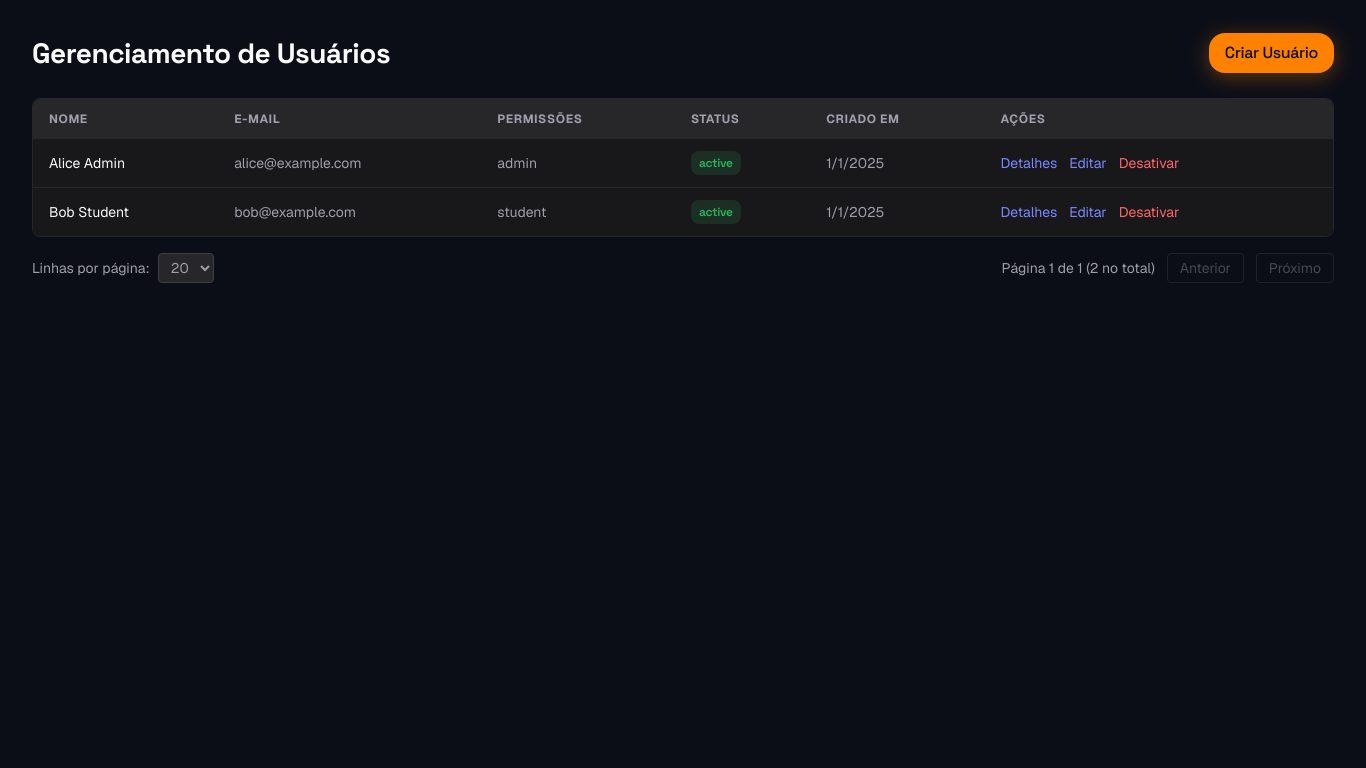
AdminUsersPage — Create User › opens the Create User form when the button is clicked
Check: the text "Alice Admin" is shown, box [33,139,218,188]
What coordinates should you click on to do the following:
click the button "Criar Usuário"
I would click on:
 (1271, 53)
Its box is [1209,33,1334,73].
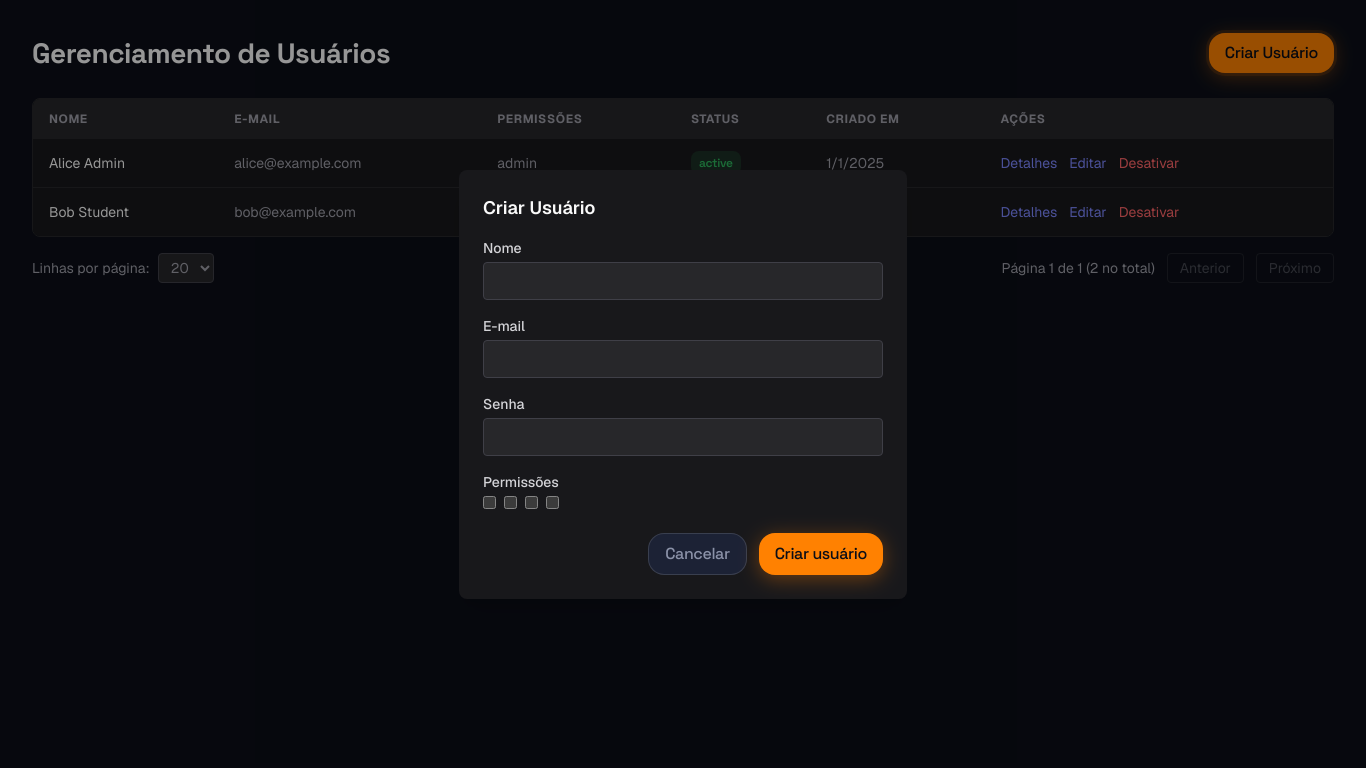
Check: the dialog "Criar Usuário" is shown
